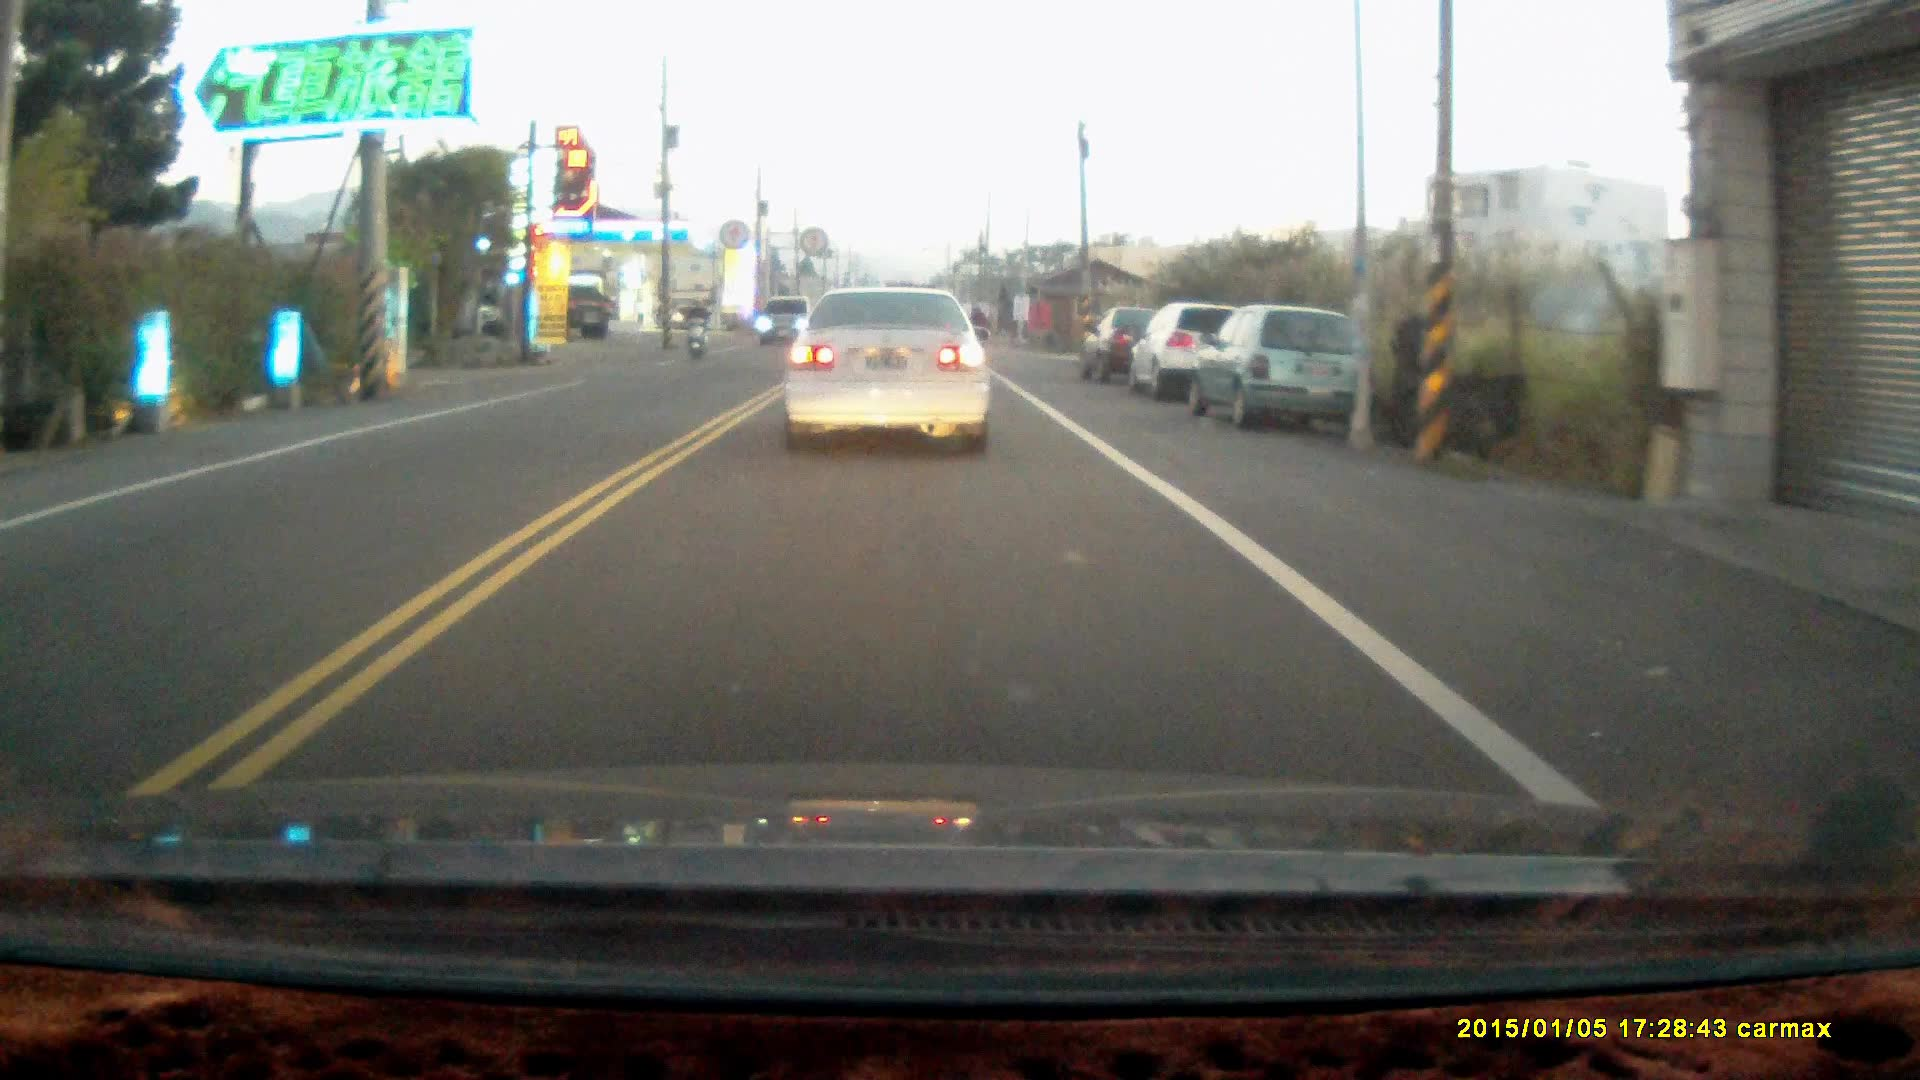rider: (683, 297, 710, 361)
vehicle: (783, 283, 995, 455), (1183, 305, 1375, 433), (1134, 304, 1262, 407), (1086, 306, 1183, 378), (758, 296, 823, 350)
